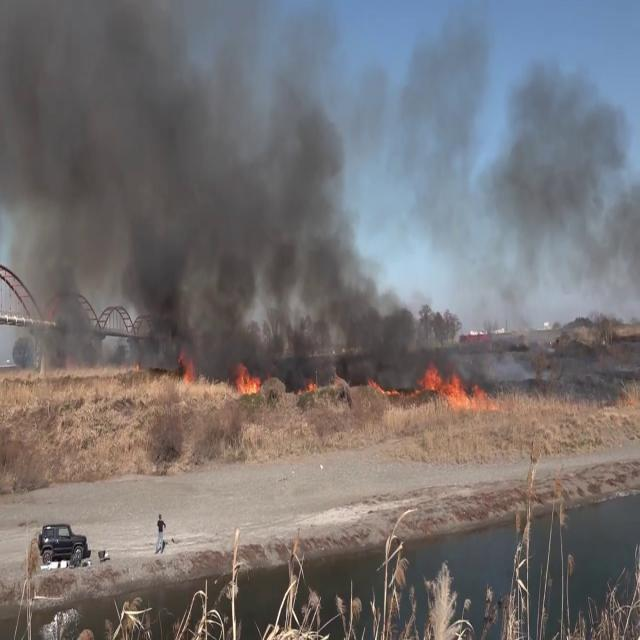Fire: (420, 362, 504, 412), (234, 359, 264, 398)
Smoke: (0, 0, 393, 377), (381, 34, 640, 360)
